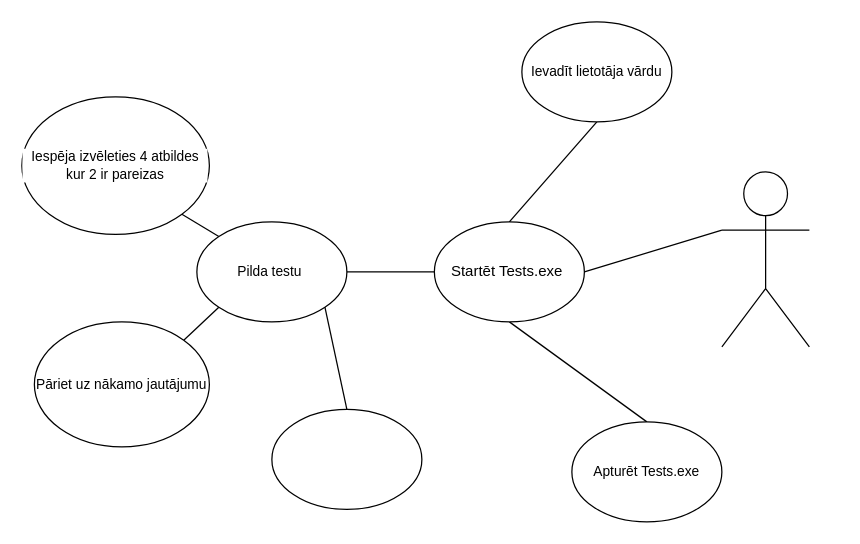
Image size: 860x544. Some labels were removed from this diagram. Here are the shapes that lost their labels. From the top down, the box of each, then its label:
(721, 171, 809, 347): Windows OS Lietotājs
(271, 408, 422, 509): Testa beigās aplūko rezultātu
